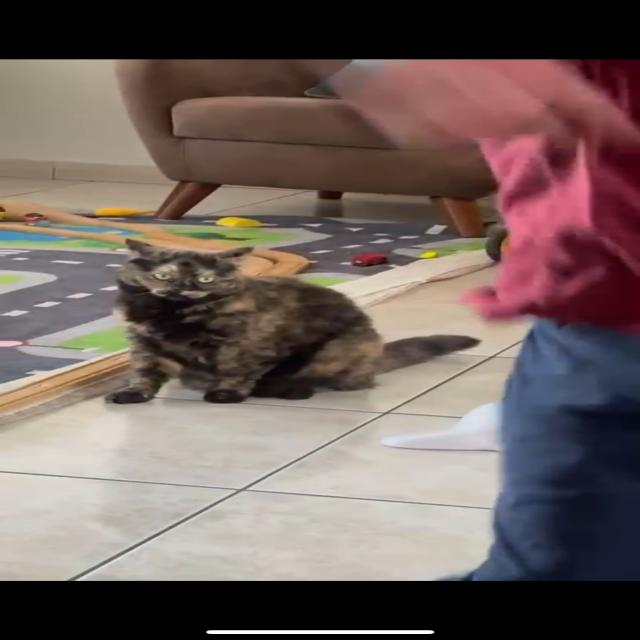authorized: (105, 237, 481, 405)
